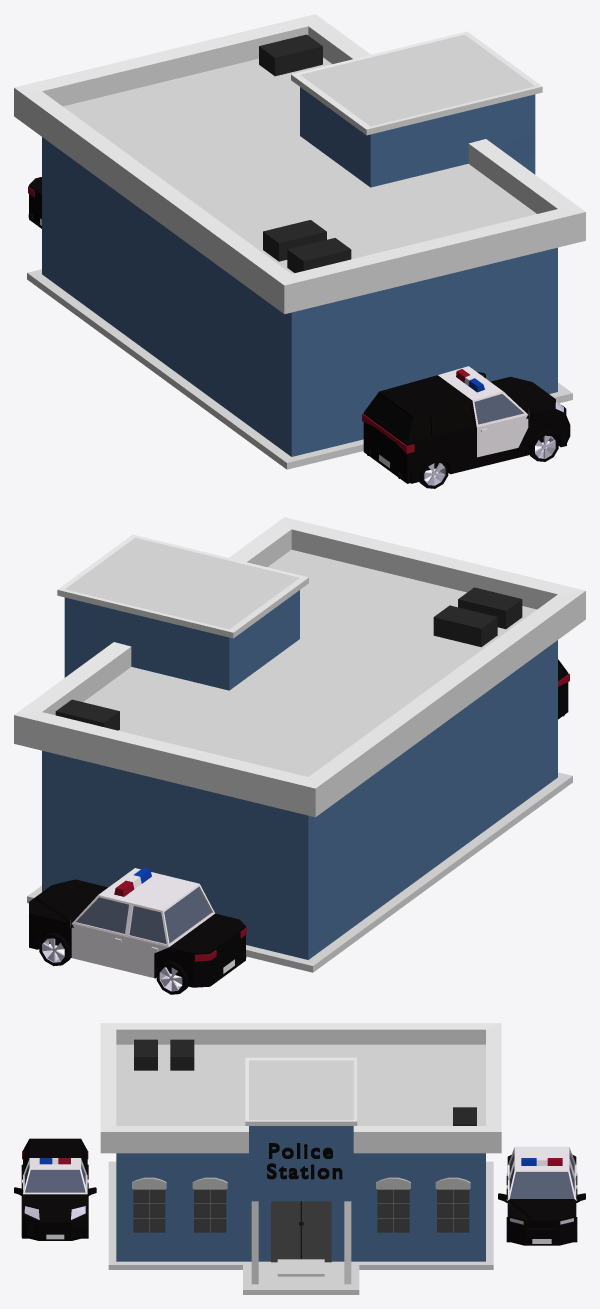
Rendered from PoliceStation.fbx.
3 renders of one model, top to bottom at view 1: azimuth 30°, elevation 25°; view 2: azimuth 150°, elevation 25°; view 3: azimuth 270°, elevation 25°, orthographic. The views are drawn at different scales.
Visible parts, largest first — view 1: police station, Police SUV, Cube.006, Cube.005, Cube.004, Police SUV wheel front right, Police SUV wheel rear right; view 2: police station, Police Sedan, Cube.005, Cube.004, Cube.006, Police Sedan wheel front left, Police Sedan wheel rear left; view 3: police station, Police Sedan, Police SUV, door, window.001, window.003, window, window.002, Police Station, Cube.005, Cube.004, Cube.002 (+2 smaller).
Boxes of the visible parts, x1,y1,x2,y2 form: police station: (14,14,585,469); Police SUV: (362,366,570,483); Cube.006: (259,34,322,76); Cube.005: (263,220,326,261); Cube.004: (287,238,351,272); Police SUV wheel front right: (530,430,558,461); Police SUV wheel rear right: (419,457,448,488); police station: (14,517,585,972); Police Sedan: (29,867,246,987); Cube.005: (433,605,497,647); Cube.004: (458,587,522,629); Cube.006: (55,699,119,730); Police Sedan wheel front left: (39,932,70,966); Police Sedan wheel rear left: (156,960,187,994); police station: (100,1023,501,1294); Police Sedan: (498,1146,585,1245); Police SUV: (14,1138,96,1240); door: (271,1201,331,1262); window.001: (192,1177,227,1232); window.003: (435,1177,470,1232); window: (132,1177,166,1232); window.002: (376,1177,410,1232); Police Station: (267,1143,342,1179); Cube.005: (170,1039,194,1070); Cube.004: (134,1039,157,1070); Cube.002: (344,1201,351,1284).
Size of the model in its own units: 615 by 376 by 1134.
